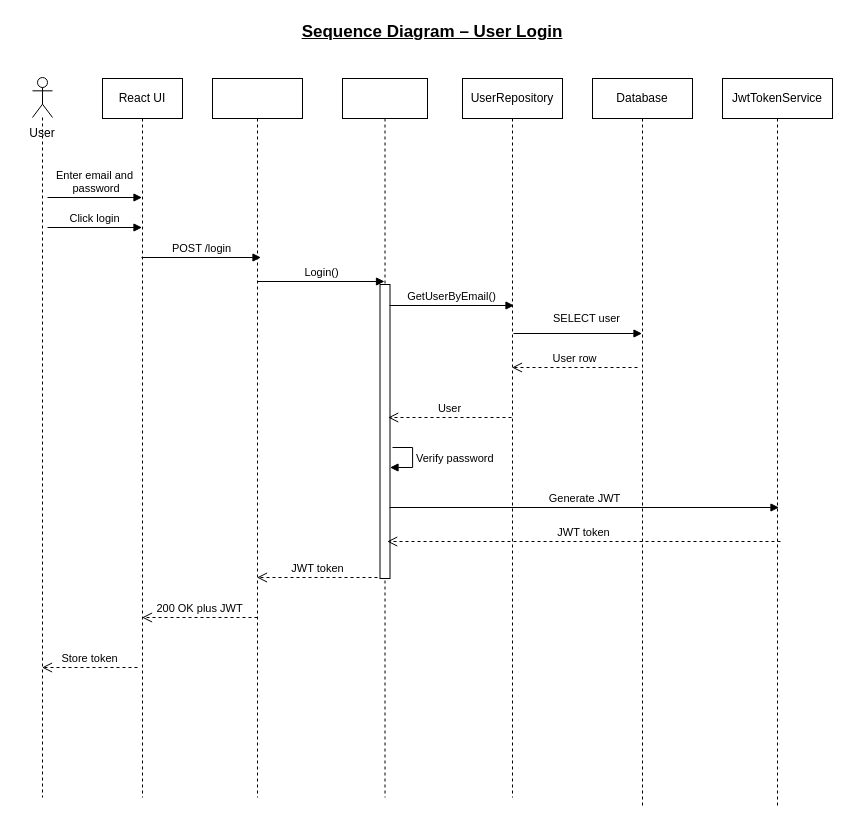
The diagram is 864 pixels wide and 825 high, and some of its shapes have lost their labels. The shapes that lost their labels are listed below. From the top down, each one's box as (x1, y1, x2, y2) in pixels, then its label:
(212, 78, 302, 798): AuthController
(342, 78, 428, 798): AuthService
